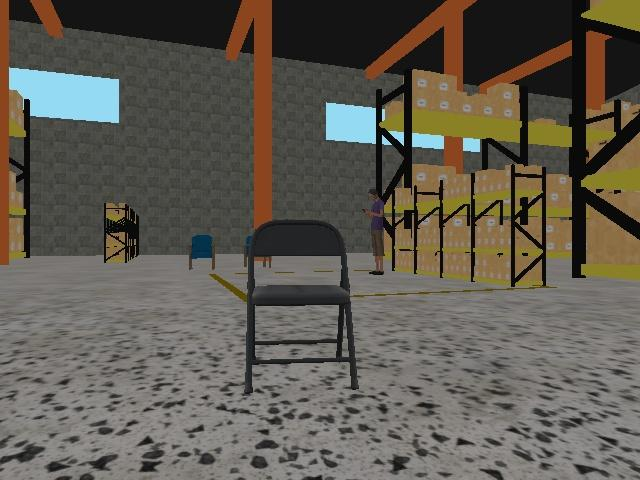chair: (244, 219, 360, 393), (188, 234, 216, 271)
person: (362, 187, 385, 276)
